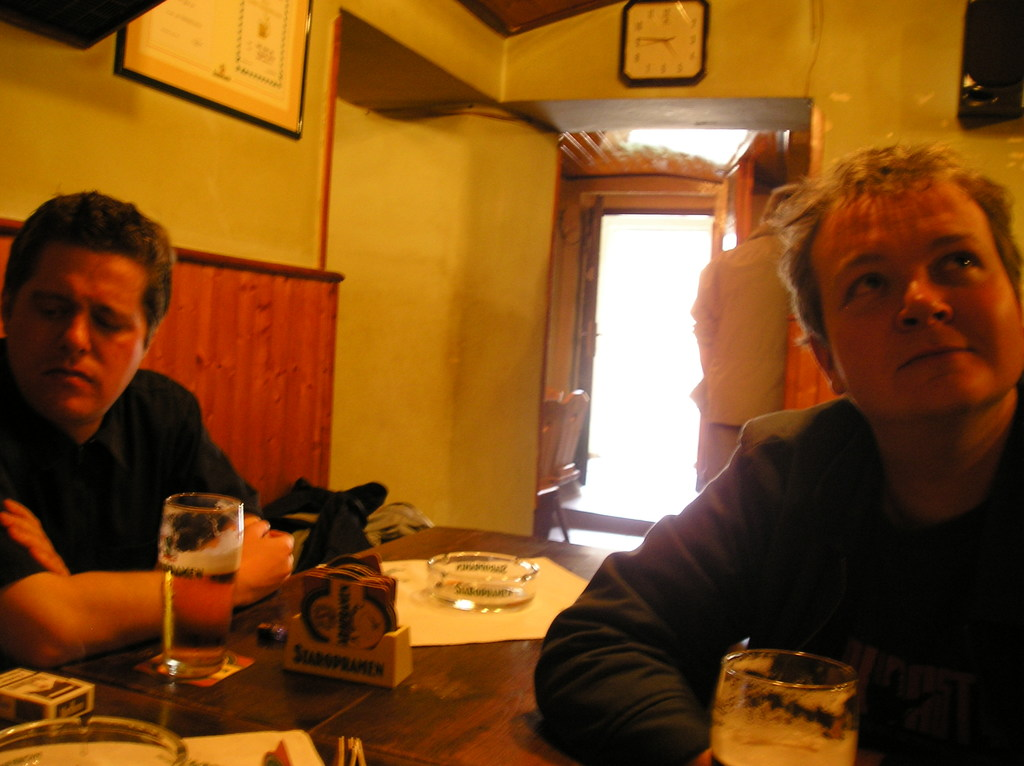Beer: (704, 639, 872, 759), (160, 542, 238, 680)
